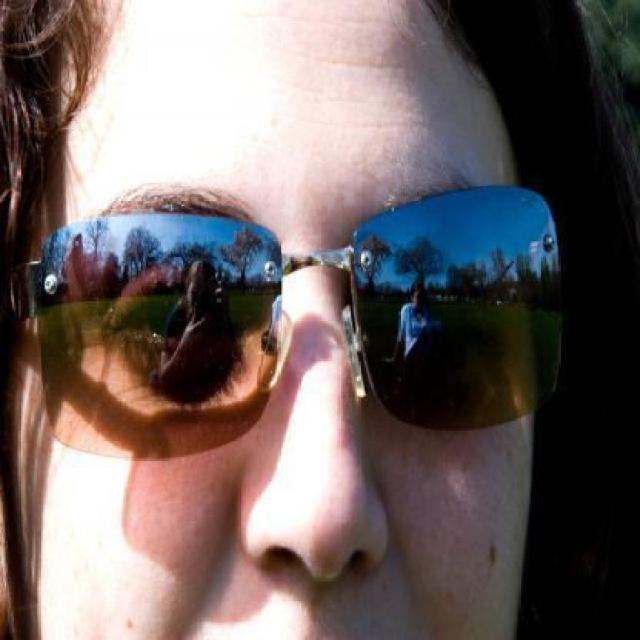glasses: (14, 210, 568, 458)
